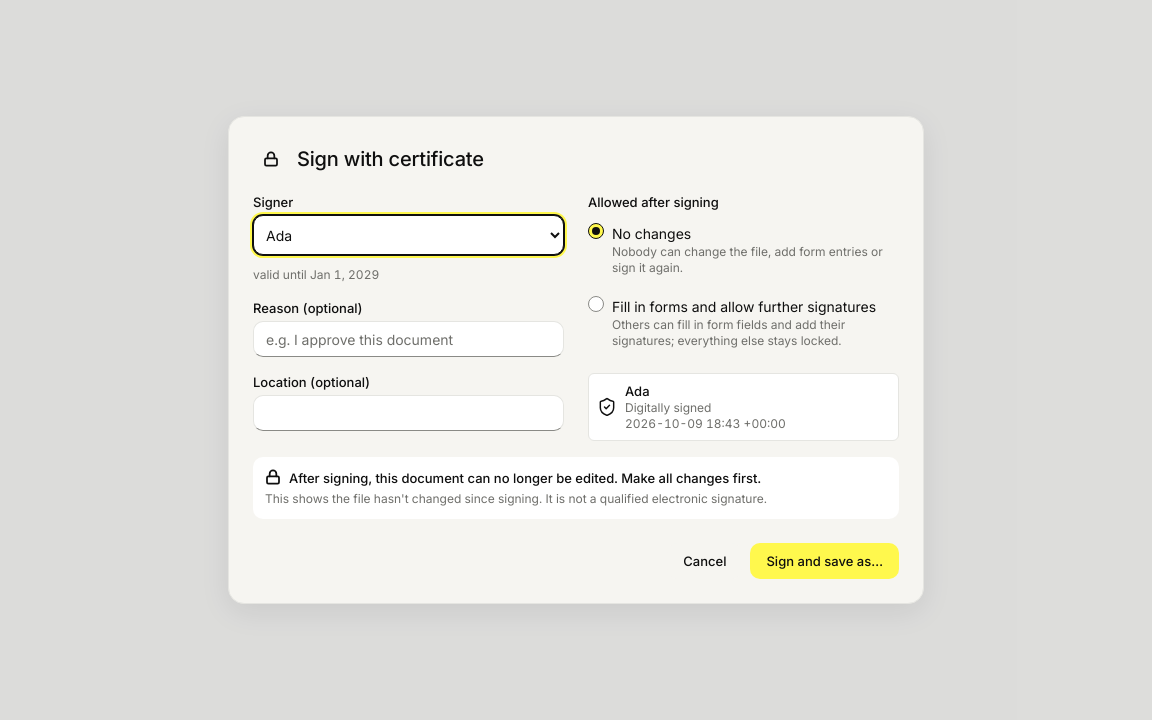
Test: the lock choice (DESIGN 3.8 L1, AC 25 to 27) › forgets a choice made in a cancelled sheet
The image size is (1152, 720).
Click the radio button labelled "Fill in forms".
click(596, 304)  # box [588,296,604,312]
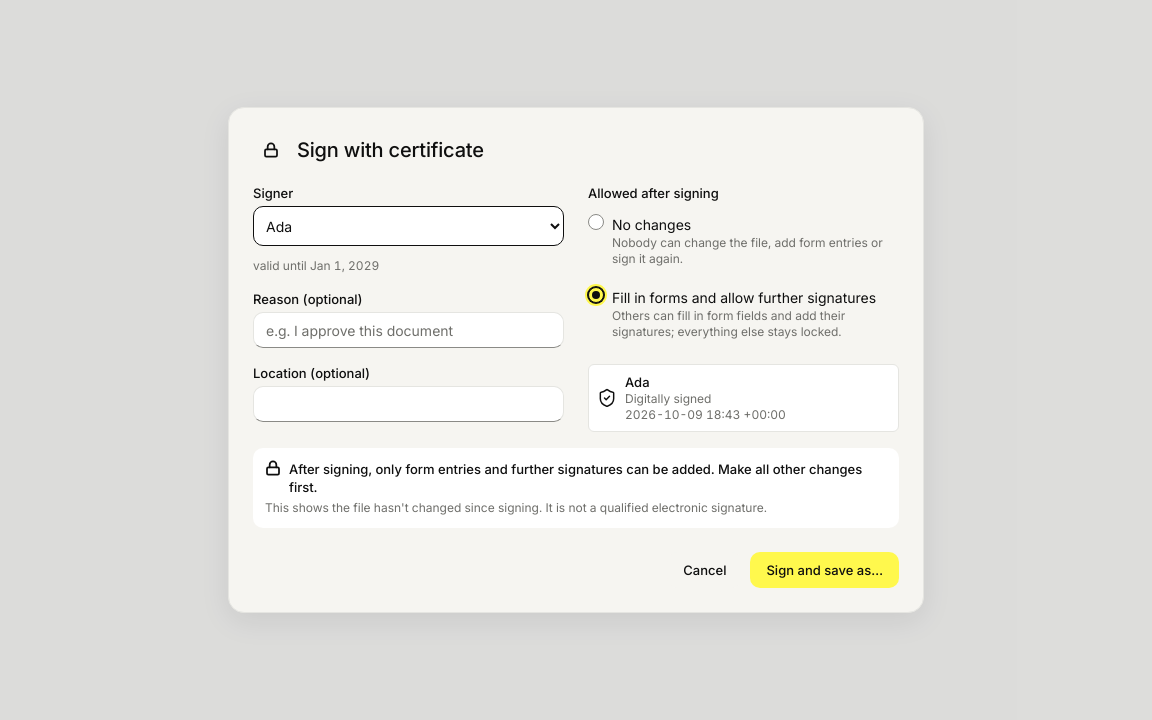
Click the button "Cancel".
click(705, 570)  # box [667,552,742,588]
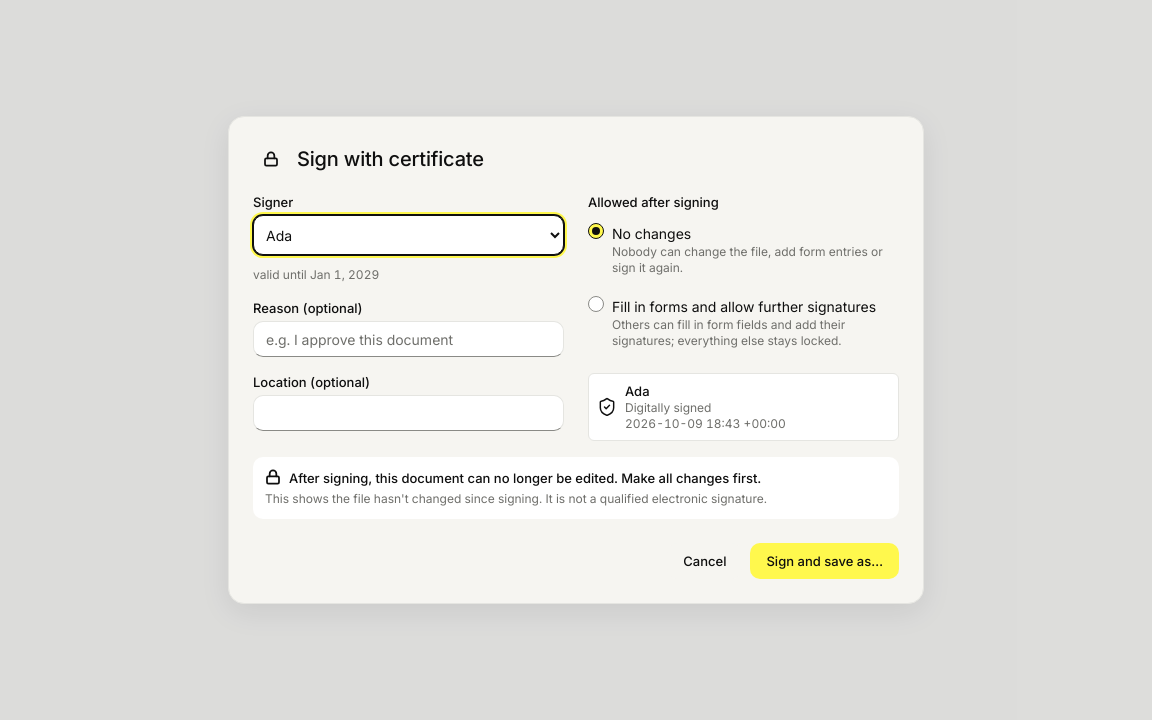
Check: the radio button labelled "No changes" is checked, box [588,223,604,239]
